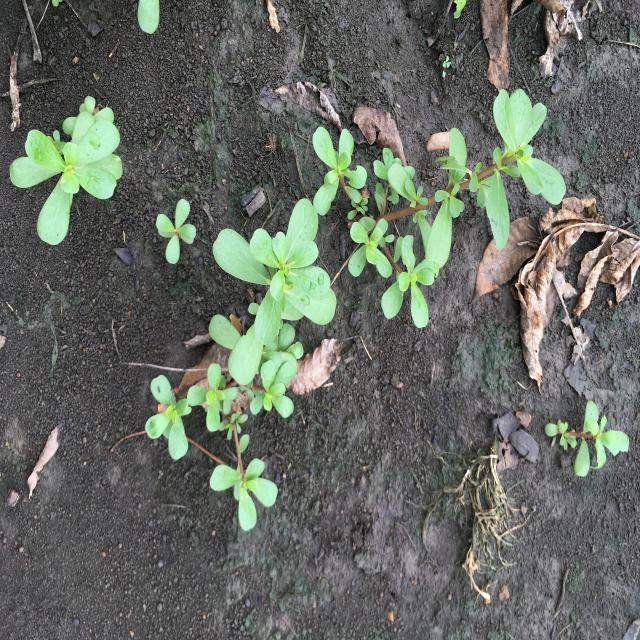Purslane: (146, 198, 337, 531), (313, 89, 566, 328), (9, 96, 123, 246), (545, 400, 629, 477), (156, 199, 196, 264)
